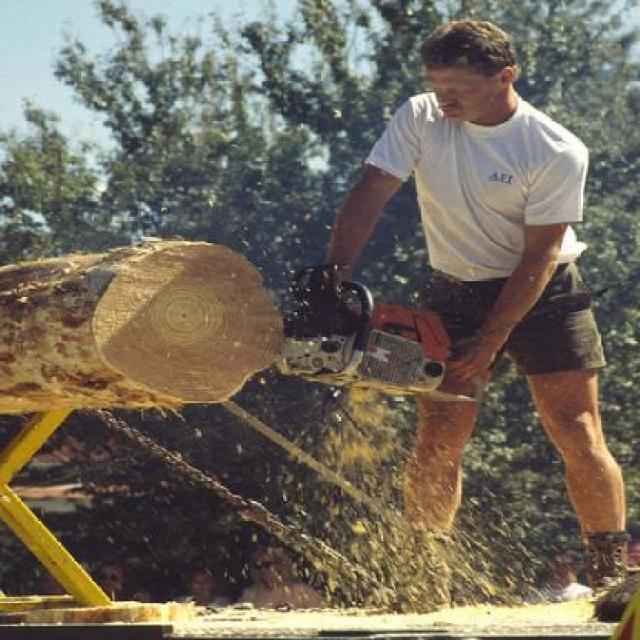Chainsaw: (271, 264, 466, 402)
